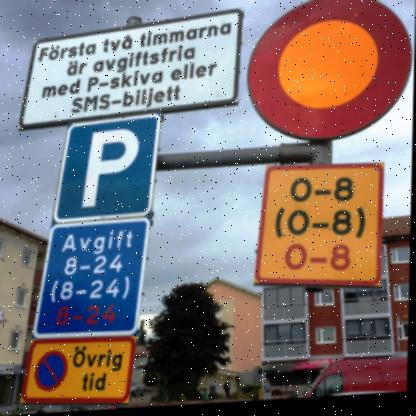Parking: (59, 114, 159, 218)
